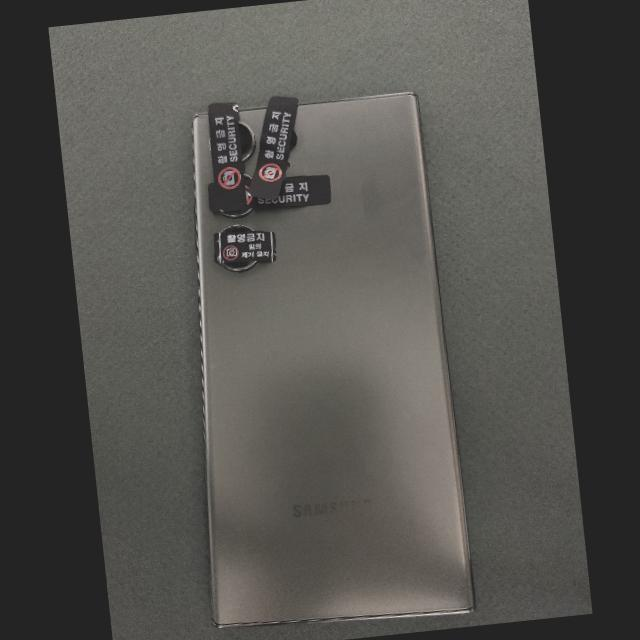lens: (241, 124, 253, 159), (221, 262, 259, 271), (222, 209, 249, 216), (288, 132, 296, 150)
phone: (192, 92, 476, 629)
sticker: (248, 95, 298, 202), (208, 176, 331, 214), (208, 102, 248, 211), (212, 230, 276, 264)
